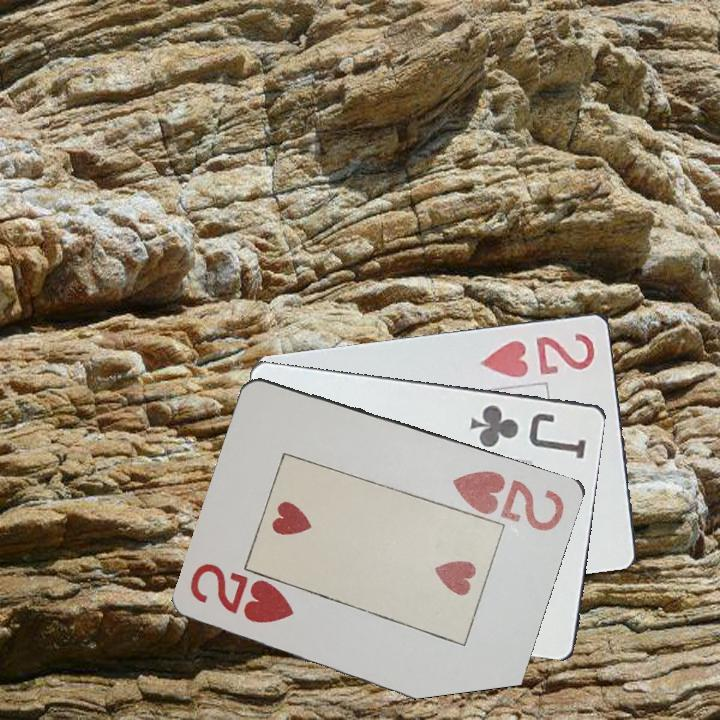2h: (449, 466, 568, 535), (187, 562, 298, 626), (477, 329, 599, 380)
Jc: (466, 400, 590, 461)
